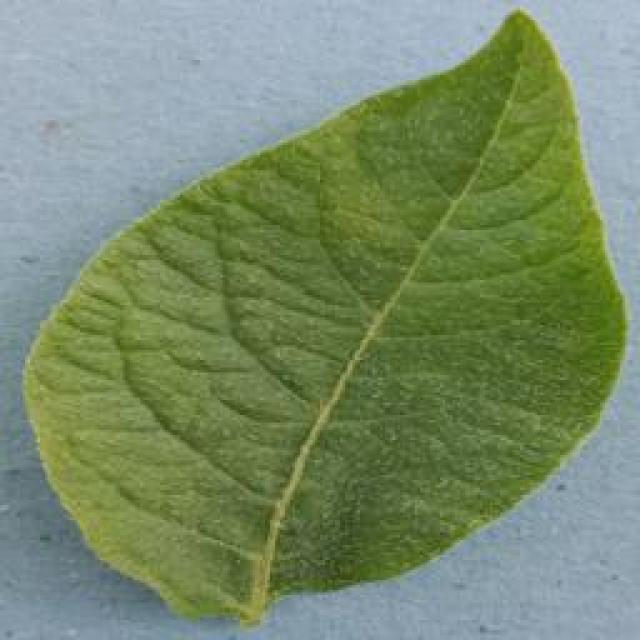Potato_Healthy: (1, 6, 632, 634)
